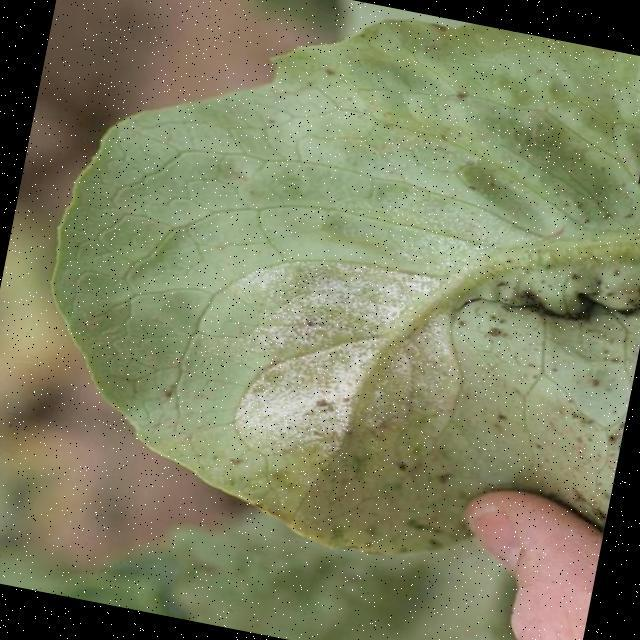Powdery_Mildew: (204, 218, 496, 497)
